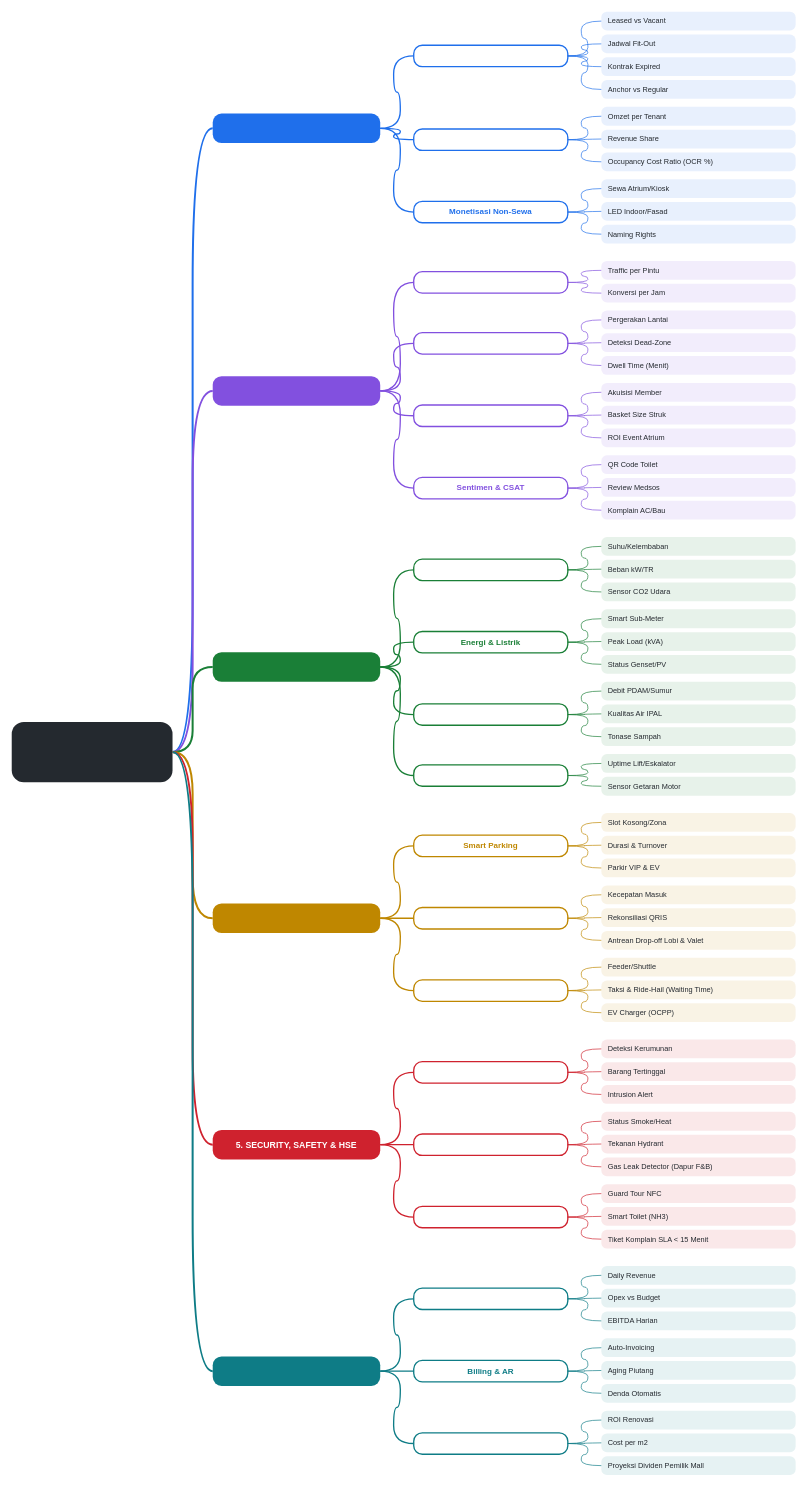
The diagram is 807 pixels wide and 1486 high, and some of its shapes have lost their labels. The shapes that lost their labels are listed below. From the top down, each one's box as (x1, y1, x2, y2) in pixels, then its label:
(413, 44, 568, 67): Okupansi (NLA)
(212, 113, 380, 143): 1. COMMERCIAL & TENANT MIX
(413, 128, 568, 151): Produktivitas POS
(413, 271, 568, 293): Footfall Counter
(413, 332, 568, 354): Heatmap & Zoning
(212, 376, 380, 405): 2. VISITOR & EXPERIENCE
(413, 404, 568, 427): Loyalty & CRM
(413, 558, 568, 581): HVAC & Chiller
(212, 652, 380, 681): 3. SMART BMS & ENGINEERING
(413, 703, 568, 726): Air & Lingkungan
(11, 722, 172, 782): SUPER MALL INTEGRATED COMMAND CENTER TICKETING SYSTEM
(413, 764, 568, 787): Transport Vertikal
(212, 903, 380, 933): 4. PARKING & MOBILITY
(413, 907, 568, 929): Gate & LPR Camera
(413, 979, 568, 1002): Integrasi Transit
(413, 1061, 568, 1083): AI CCTV Analytics
(413, 1133, 568, 1156): Fire & Life Safety
(413, 1205, 568, 1228): Patroli & Kebersihan
(413, 1287, 568, 1310): Real-time P&L
(212, 1356, 380, 1386): 6. FINANCE & ASSET VALUE
(413, 1432, 568, 1455): Valuasi & Capex
